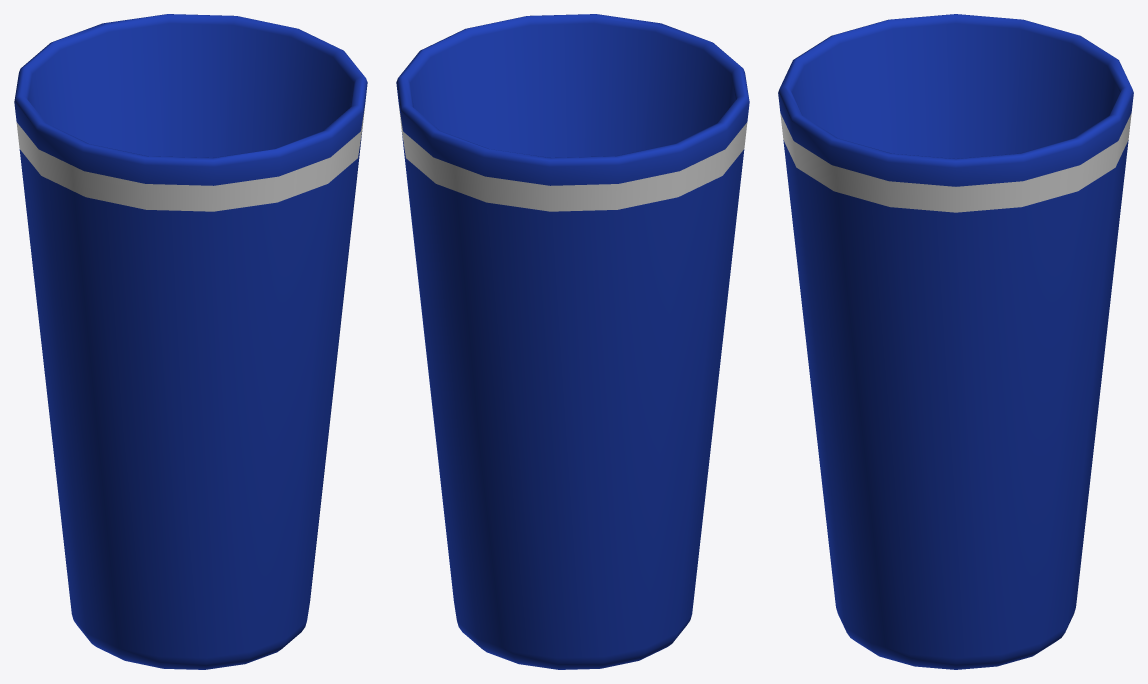
Rendered from BlueCup.fbx.
3 views of the same model, side by side, from view 1: azimuth 30°, elevation 25°; view 2: azimuth 150°, elevation 25°; view 3: azimuth 270°, elevation 25° (orthographic).
Parts seen in each view (by area): view 1: Cylinder.001; view 2: Cylinder.001; view 3: Cylinder.001.
Part boxes in pixels (x1=…): Cylinder.001: x1=14, y1=14, x2=367, y2=669; Cylinder.001: x1=396, y1=14, x2=749, y2=669; Cylinder.001: x1=778, y1=14, x2=1133, y2=669.
Bounding box in the file's own units: 13.39 × 22.47 × 13.39.
